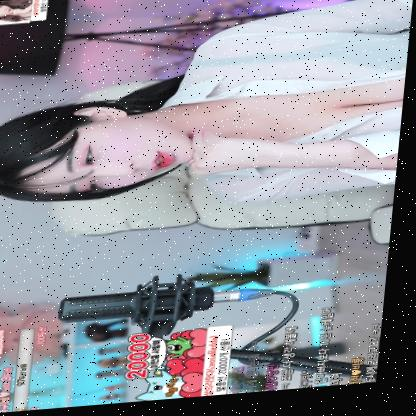donation: (129, 328, 242, 406), (0, 0, 49, 26)
streamer: (0, 0, 416, 224)
